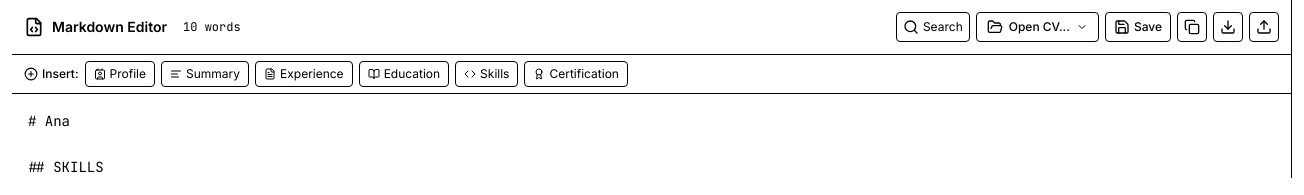
Test: MarkdownEditor copy, download and upload › copies the document to the clipboard and says so
Click the button titled "Copy Markdown": click(1192, 27) [1177,12,1207,42]
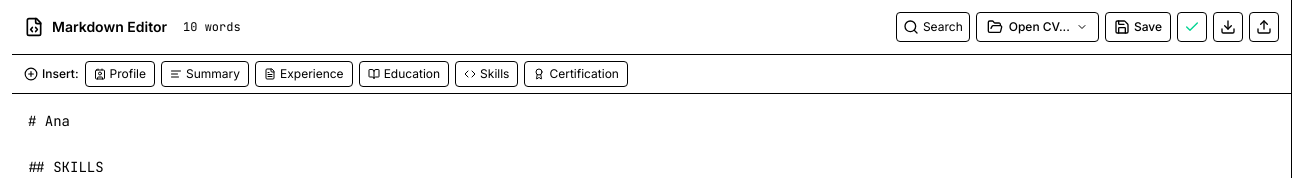
Expected: the button titled "Copied!" is shown, [1177,12,1207,42]
